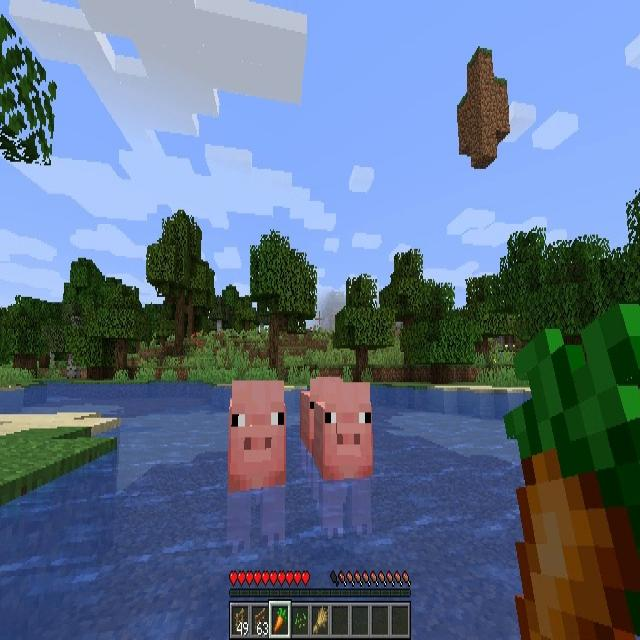pig: (230, 379, 286, 561), (315, 381, 371, 538), (302, 376, 342, 482)
